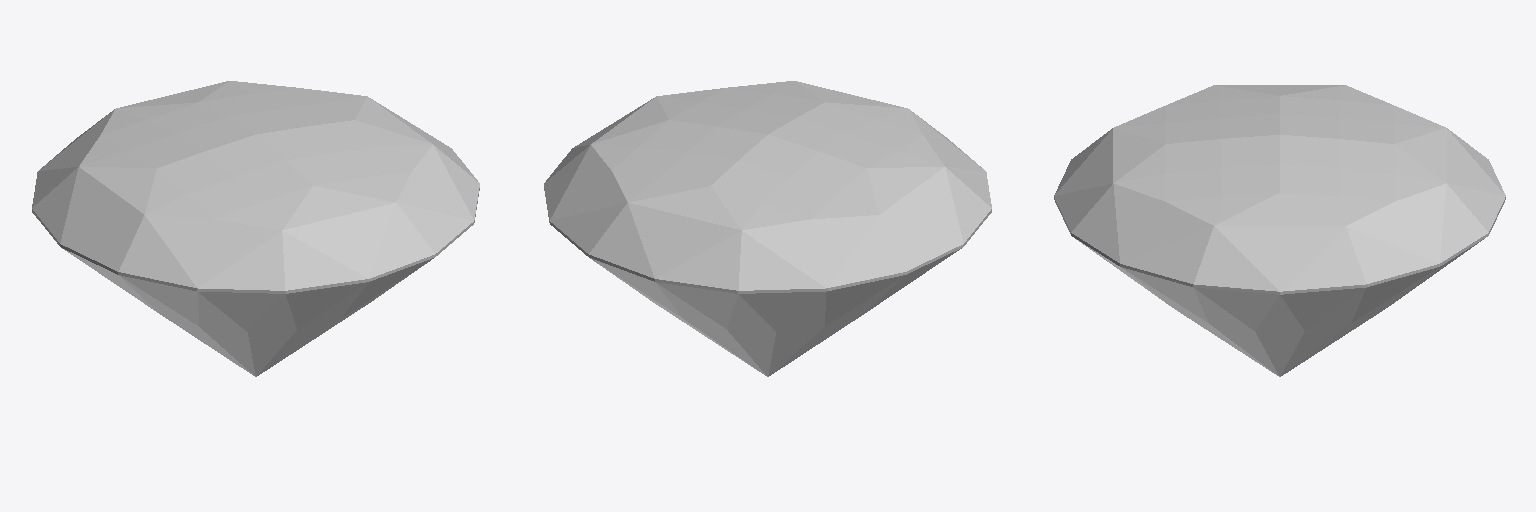
File: wafercut.obj
3 views of the same model, side by side, from view 1: azimuth 30°, elevation 25°; view 2: azimuth 150°, elevation 25°; view 3: azimuth 270°, elevation 25° (orthographic).
Visible parts, largest first — view 1: wafercut~0; view 2: wafercut~0; view 3: wafercut~0.
Part boxes in pixels (x1,y1,x2,y2): wafercut~0: (32, 81, 479, 376); wafercut~0: (544, 81, 991, 376); wafercut~0: (1054, 85, 1505, 376).
Bounding box in the file's own units: 0.6975 × 0.4131 × 0.6975.